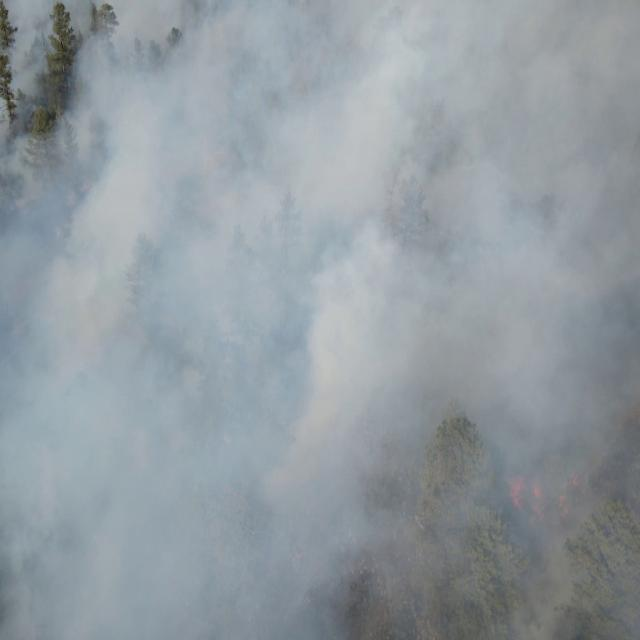fire: (504, 472, 525, 510), (528, 477, 546, 521), (553, 492, 569, 516), (568, 469, 584, 491)
smoke: (0, 0, 640, 640)
